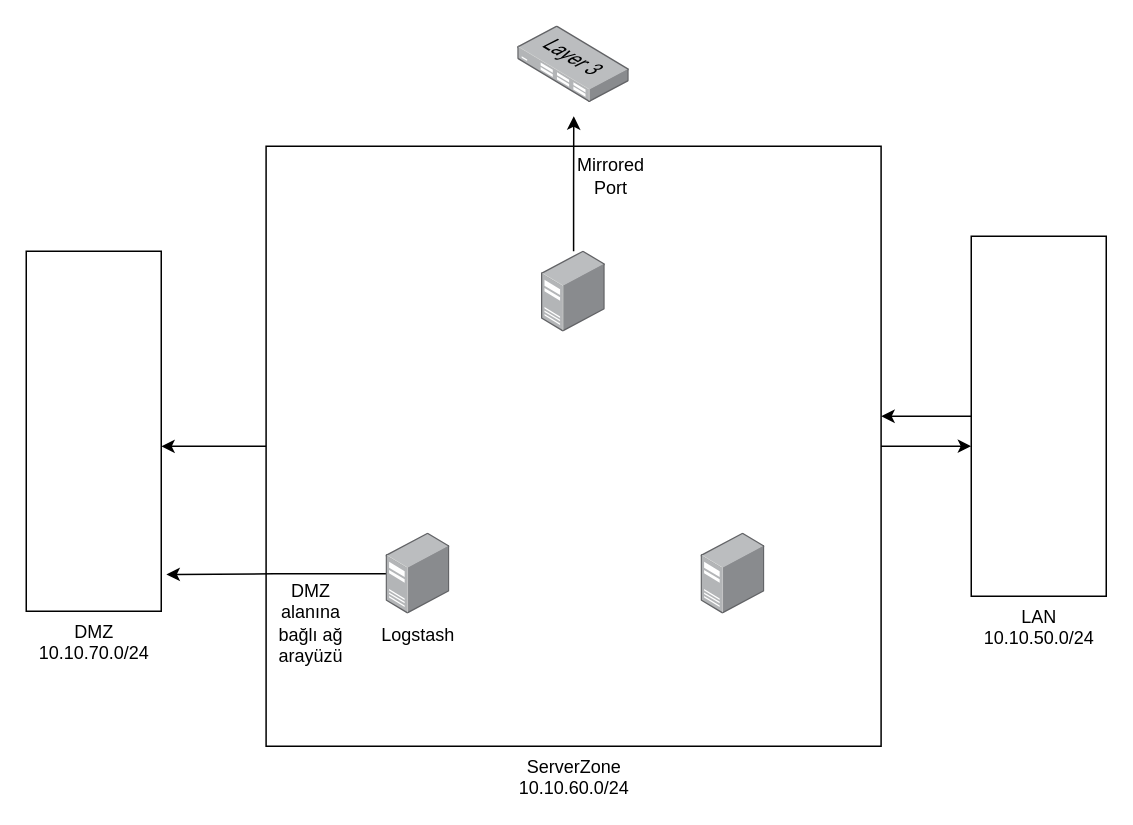
Some shapes in this 1133 by 825 pixel diagram are drawn without their labels. The shapes that lost their labels are listed below. From the top down, each one's centre as x and y in pixels, then its label:
the point at 573,291: Suricata
the point at 732,573: ELK Stack
